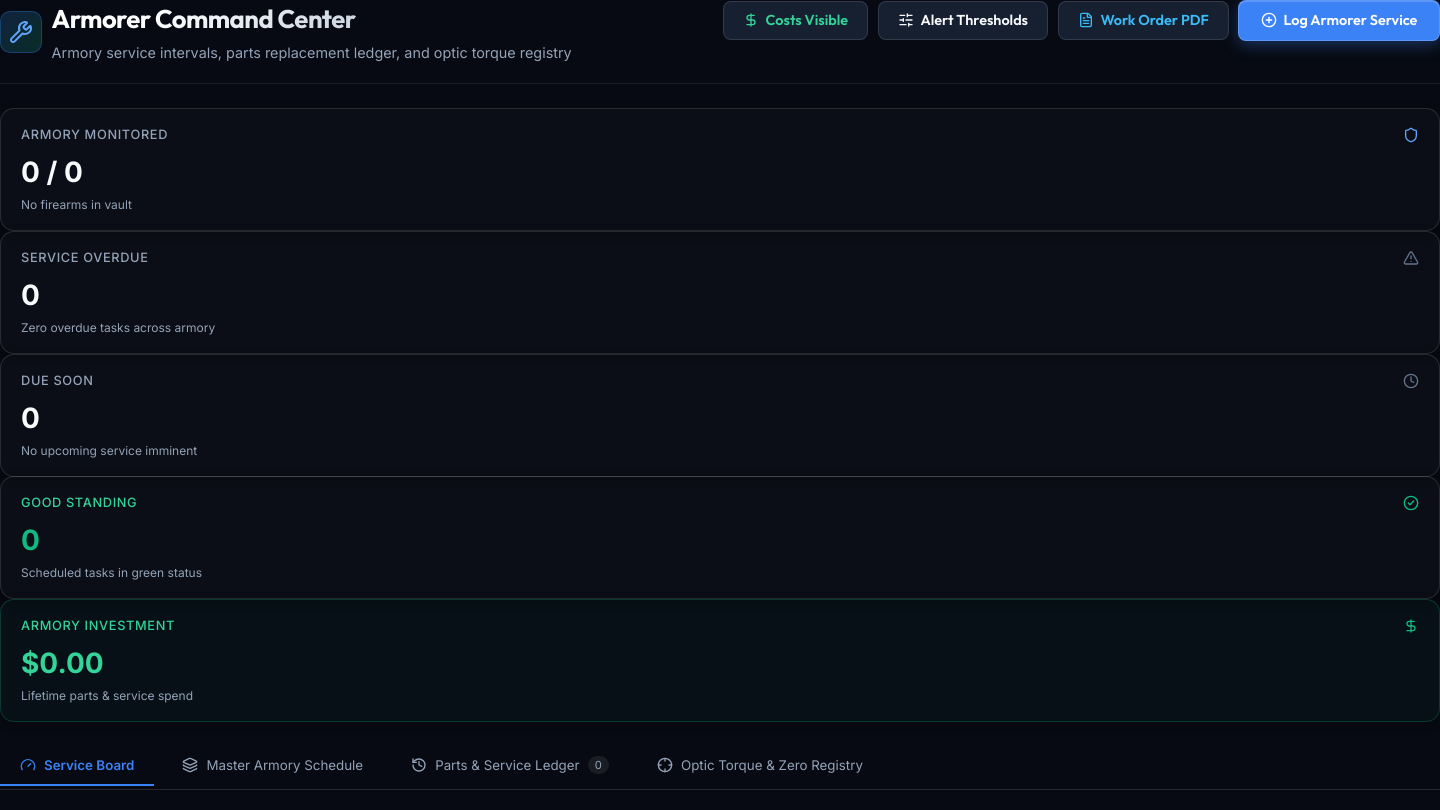
it: MaintenanceDashboard (Armorer Command Center) › adjusts Due Soon threshold dynamically via Settings modal
Expected: the text "Due Soon" is shown, x1=21 y1=371 x2=94 y2=390
Open Alert Thresholds modal
Click the button titled "Configure Alert Thresholds".
click(963, 20)  # box x1=878 y1=1 x2=1048 y2=40
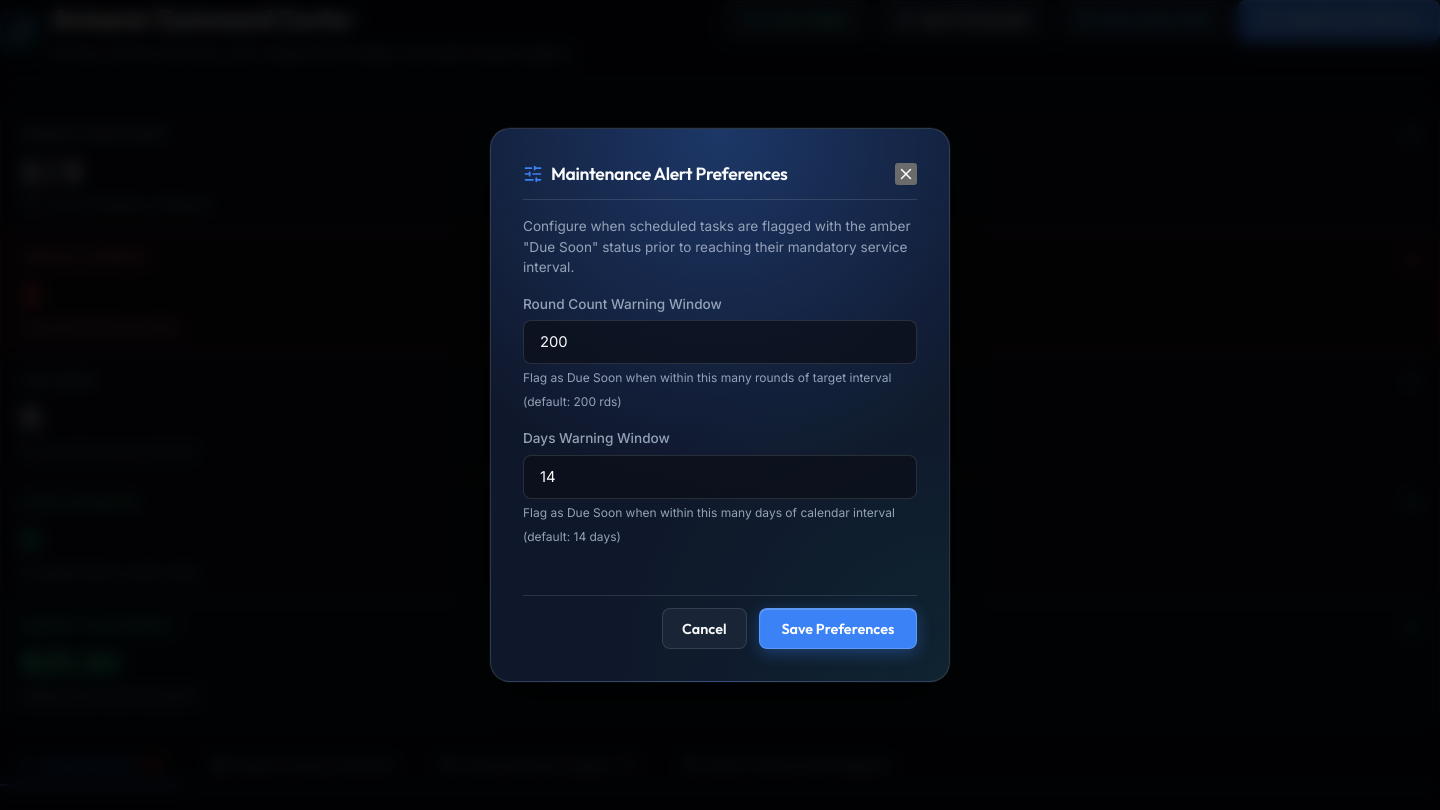
Expected: the heading "Maintenance Alert Preferences" is shown, x1=551 y1=161 x2=788 y2=187
Replace the text in the number field labelled "Round Count Warning Window" with "25" at (720, 342), box x1=523 y1=320 x2=917 y2=364
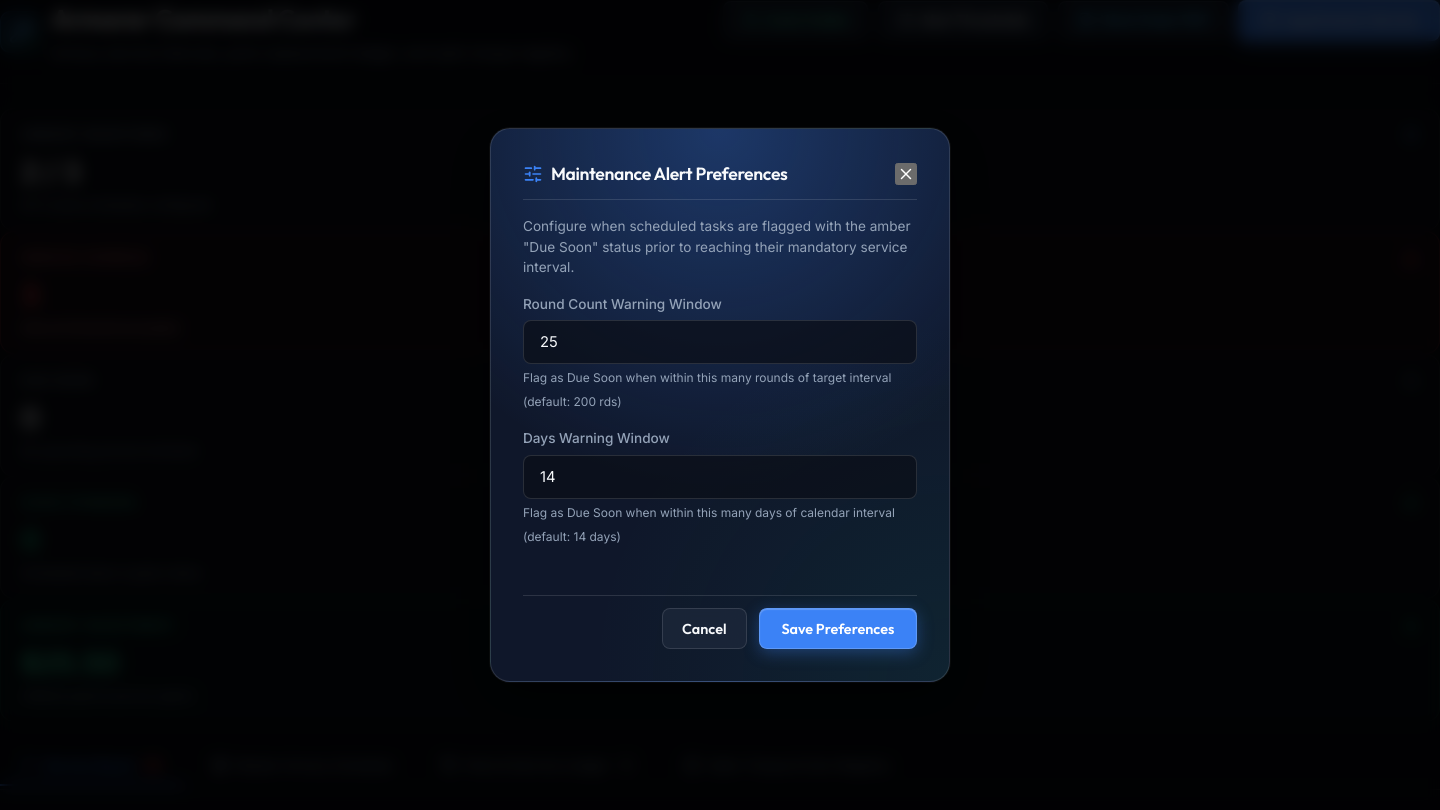
Click the button "Save Preferences".
click(838, 629)  # box x1=759 y1=608 x2=917 y2=649
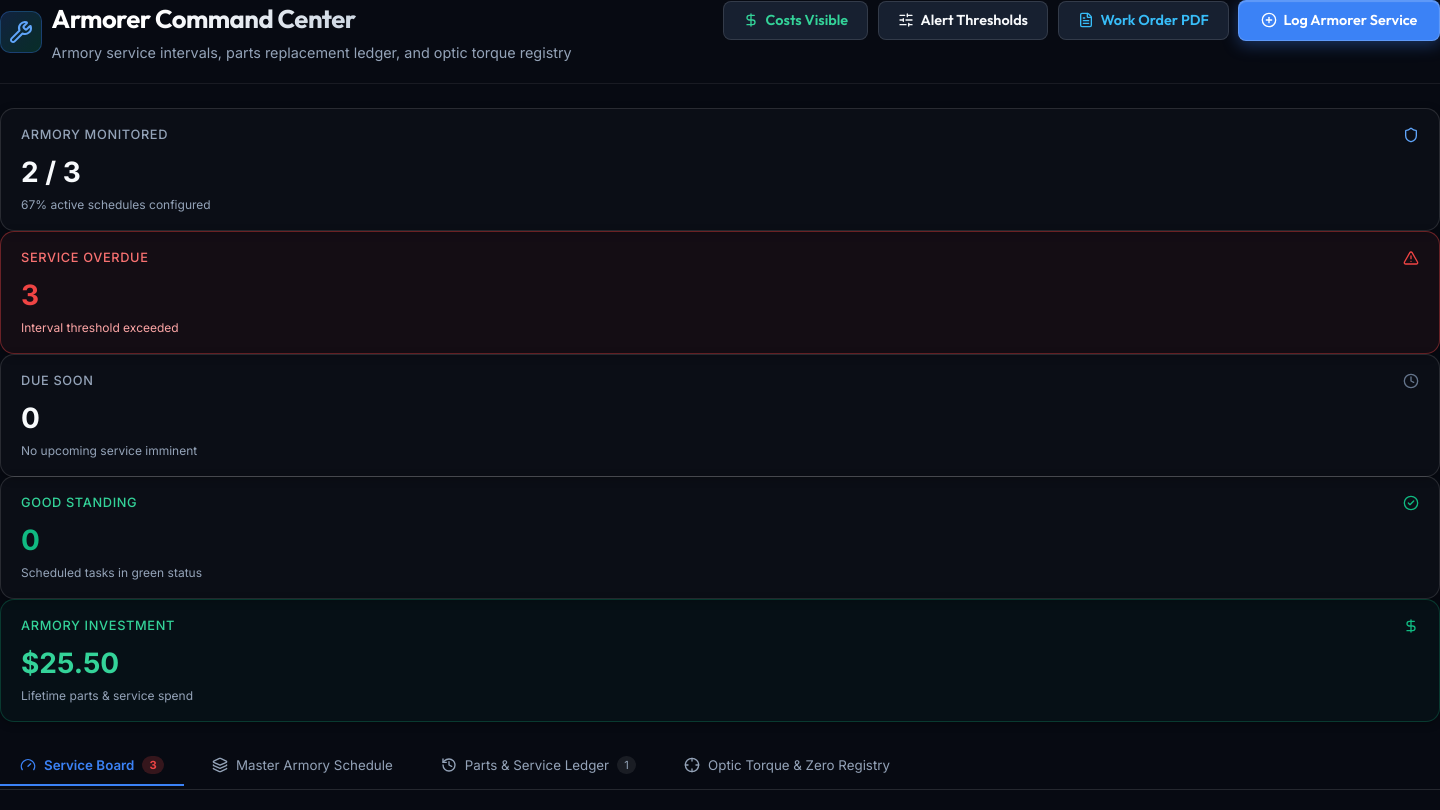
Expected: the heading "Maintenance Alert Preferences" is gone
